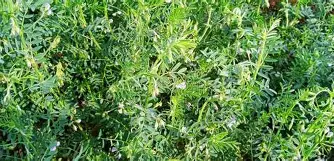crops: (0, 0, 327, 157), (274, 8, 334, 91), (42, 0, 115, 59), (274, 84, 334, 151), (146, 18, 199, 71), (234, 106, 286, 157), (246, 16, 279, 81), (192, 89, 239, 131), (117, 122, 167, 159), (12, 65, 62, 102), (0, 100, 38, 146), (190, 127, 241, 159), (47, 97, 77, 127)
